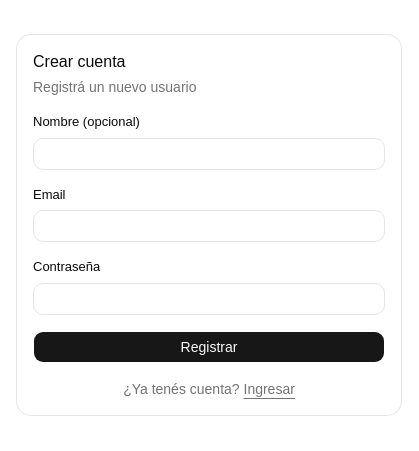
Test case: Register page › falls back to default error message when server response lacks an error field
Type "x@x.com" into the field labelled "Email".
click(209, 226); type("x@x.com")  # box [33,210,385,242]
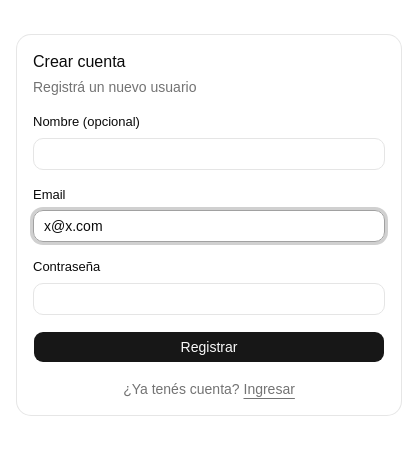
Type "ValidPassword1" into the password field labelled "Contraseña".
click(209, 299); type("ValidPassword1")  # box [33,283,385,315]
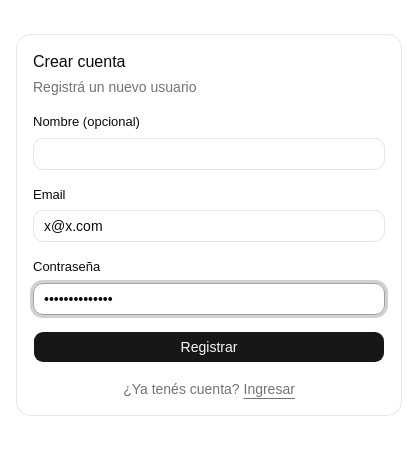
Click the button "Registrar".
click(209, 347)  # box [33,331,385,363]
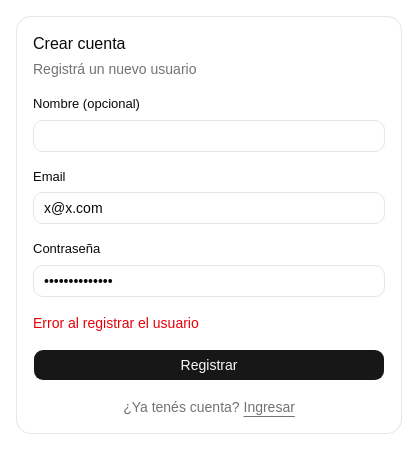
Check: the text "Error al registrar el usuario" is shown, box [33,315,199,331]
